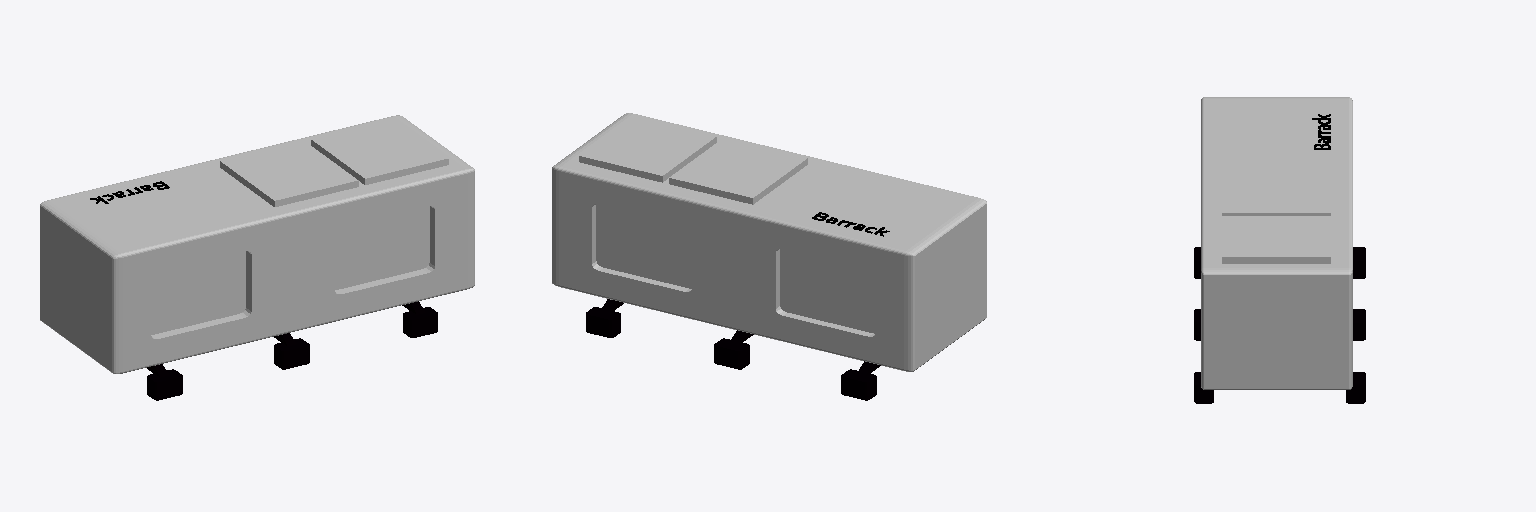
The model's file is Baracke.obj.
3 renders of one model, left to right at view 1: azimuth 30°, elevation 25°; view 2: azimuth 150°, elevation 25°; view 3: azimuth 270°, elevation 25°, orthographic.
Parts seen in each view (by area): view 1: Cube.001_Cube.002; view 2: Cube.001_Cube.002; view 3: Cube.001_Cube.002.
Boxes of the visible parts, x1,y1,x2,y2 form: Cube.001_Cube.002: [40, 115, 474, 400]; Cube.001_Cube.002: [552, 113, 986, 400]; Cube.001_Cube.002: [1194, 97, 1365, 403].
Bounding box in the file's own units: 0.7676 × 0.3192 × 0.3144.